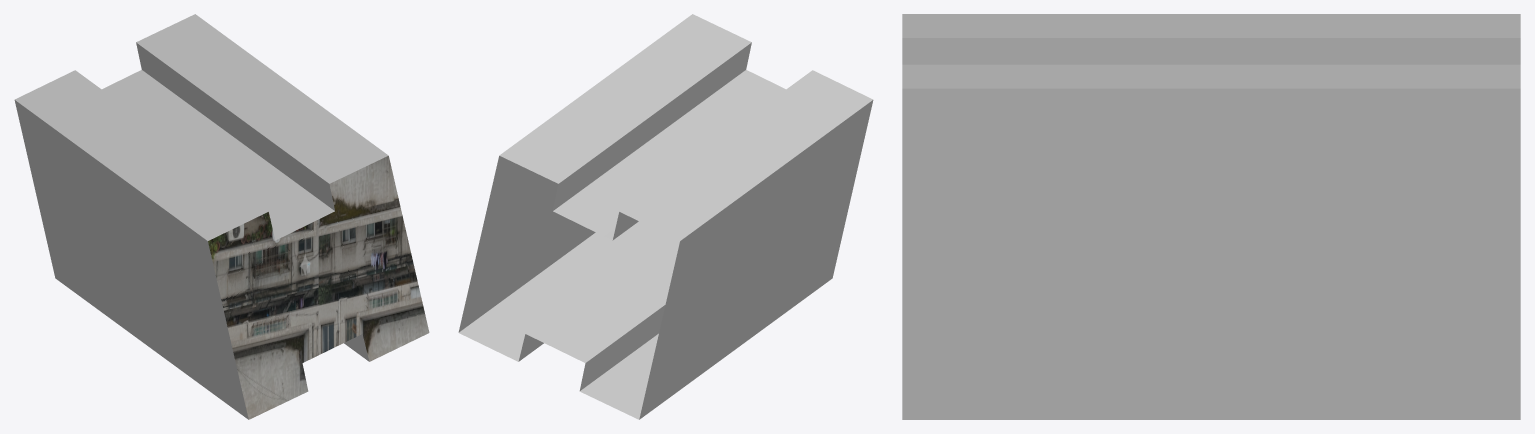
The model's file is geospecific_2199.obj.
The picture shows the model from 3 angles, left to right: view 1: azimuth 30°, elevation 25°; view 2: azimuth 150°, elevation 25°; view 3: azimuth 270°, elevation 25°; orthographic projection. The views are drawn at different scales.
Visible parts, largest first — view 1: Building; view 2: Building; view 3: Building.
Part boxes in pixels (x1,y1,x2,y2): Building: (14,14,429,419); Building: (458,14,873,419); Building: (902,14,1520,419).
Bounding box in the file's own units: 23.81 × 23.64 × 36.
